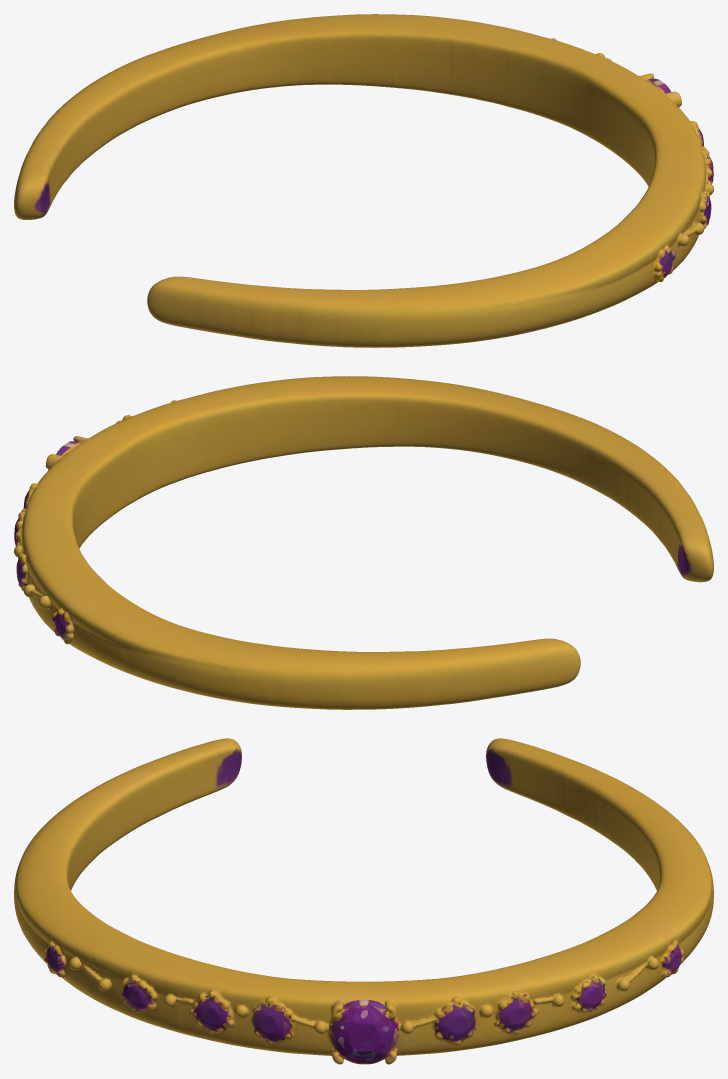
File: gold bracelet 3d model.glb
3 views of the same model, one above another, from view 1: azimuth 30°, elevation 25°; view 2: azimuth 150°, elevation 25°; view 3: azimuth 270°, elevation 25° (orthographic).
Visible parts, largest first — view 1: tripo_node_68a9f1d9-41a6-45d1-986e-7e7a490427bd; view 2: tripo_node_68a9f1d9-41a6-45d1-986e-7e7a490427bd; view 3: tripo_node_68a9f1d9-41a6-45d1-986e-7e7a490427bd.
Part boxes in pixels (left/top/right/bottom): tripo_node_68a9f1d9-41a6-45d1-986e-7e7a490427bd: left=14, top=14, right=713, bottom=347; tripo_node_68a9f1d9-41a6-45d1-986e-7e7a490427bd: left=14, top=376, right=713, bottom=709; tripo_node_68a9f1d9-41a6-45d1-986e-7e7a490427bd: left=14, top=738, right=713, bottom=1064.
Bounding box in the file's own units: 0.9679 × 0.0996 × 1.
Materials: 1 (1 with a texture image).
